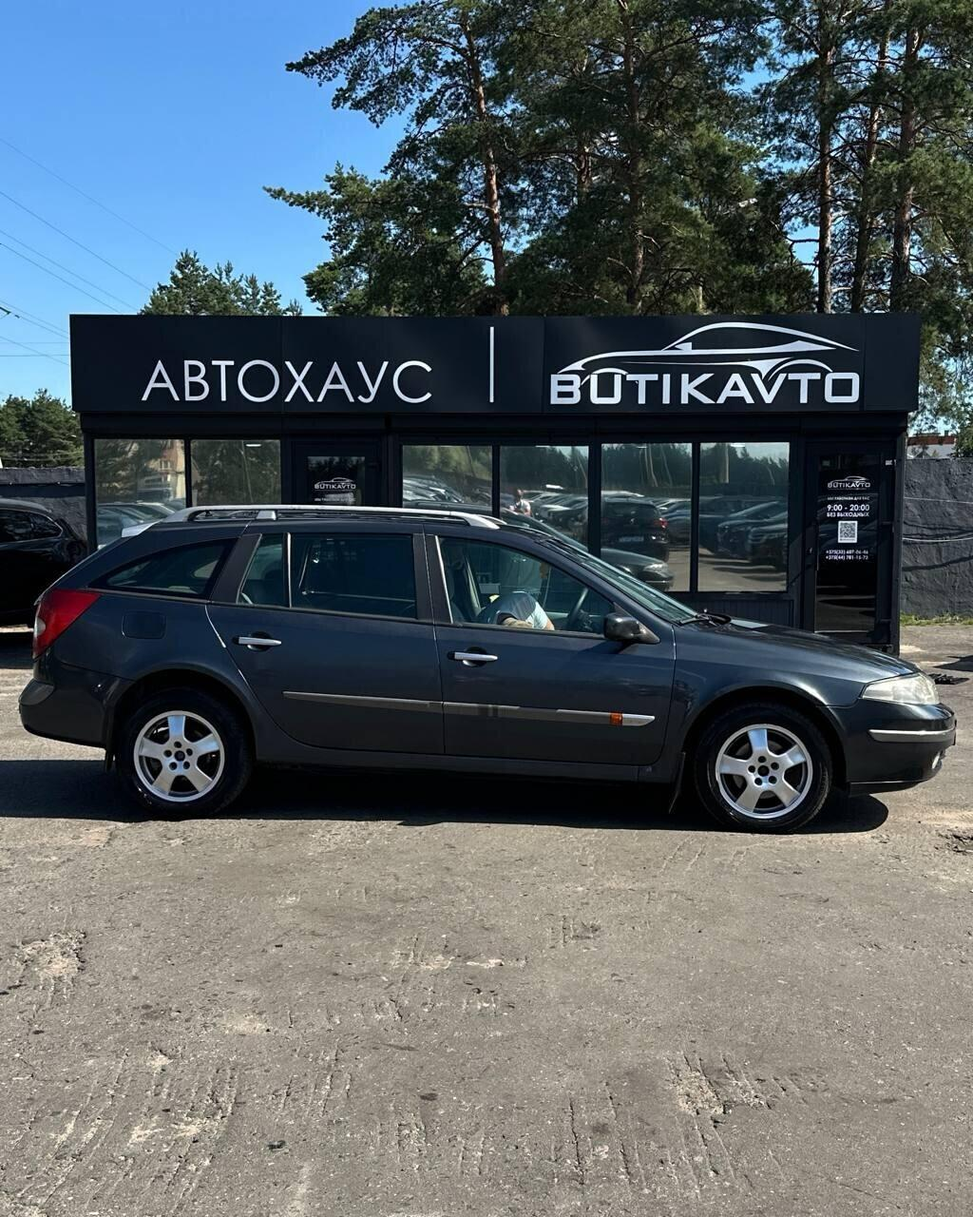Laguna_2001-2005: (20, 498, 956, 832)
